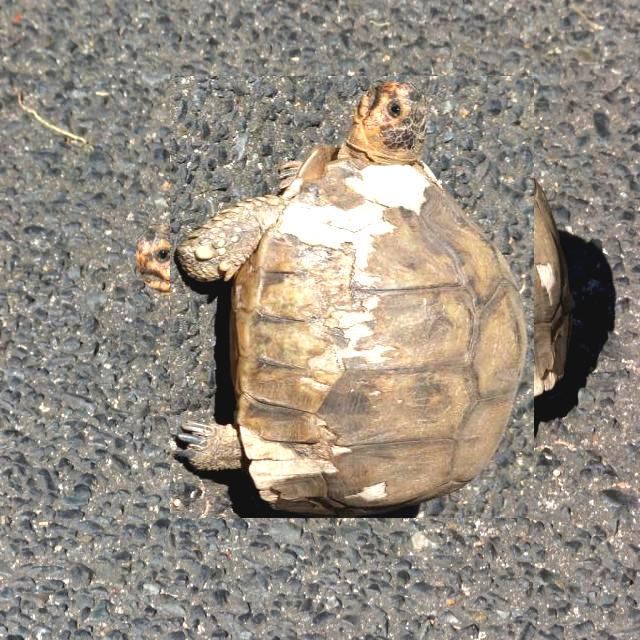Sea turtle: (150, 96, 553, 499)
